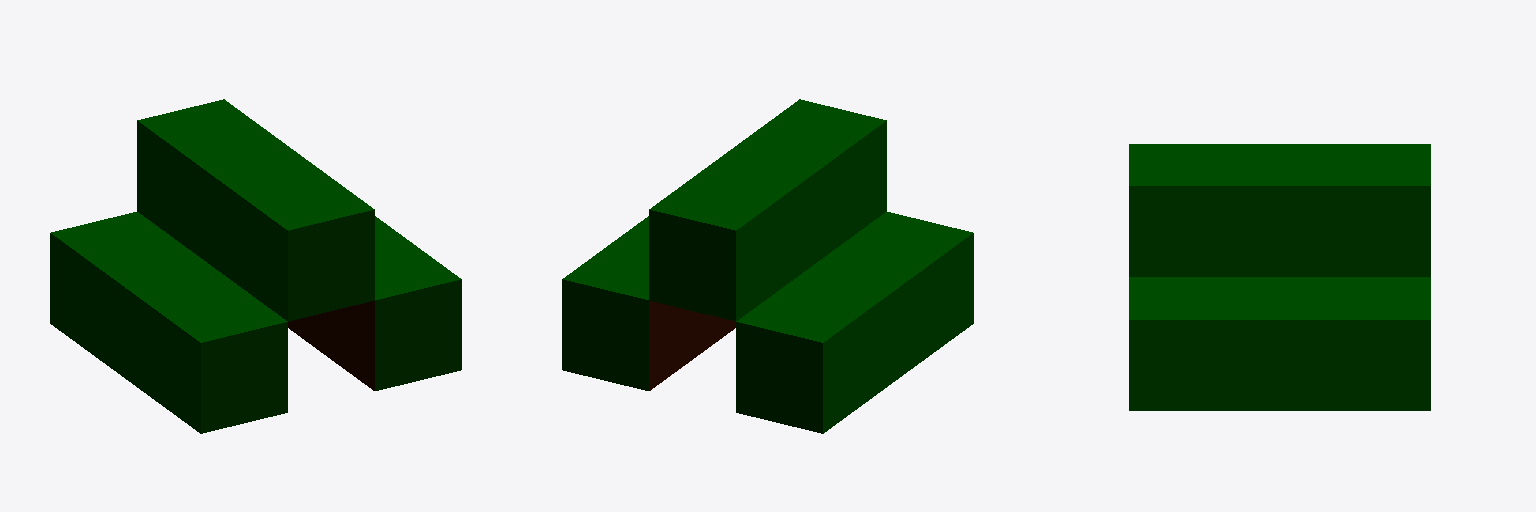
The model's file is tent_blend_15.obj.
3 renders of one model, left to right at view 1: azimuth 30°, elevation 25°; view 2: azimuth 150°, elevation 25°; view 3: azimuth 270°, elevation 25°, orthographic.
Parts seen in each view (by area): view 1: tent; view 2: tent; view 3: tent.
Boxes of the visible parts, <box> form: tent: <box>50,99,461,433</box>; tent: <box>562,99,973,433</box>; tent: <box>1129,144,1430,410</box>.
Bounding box in the file's own units: 1.5 × 1 × 1.5.